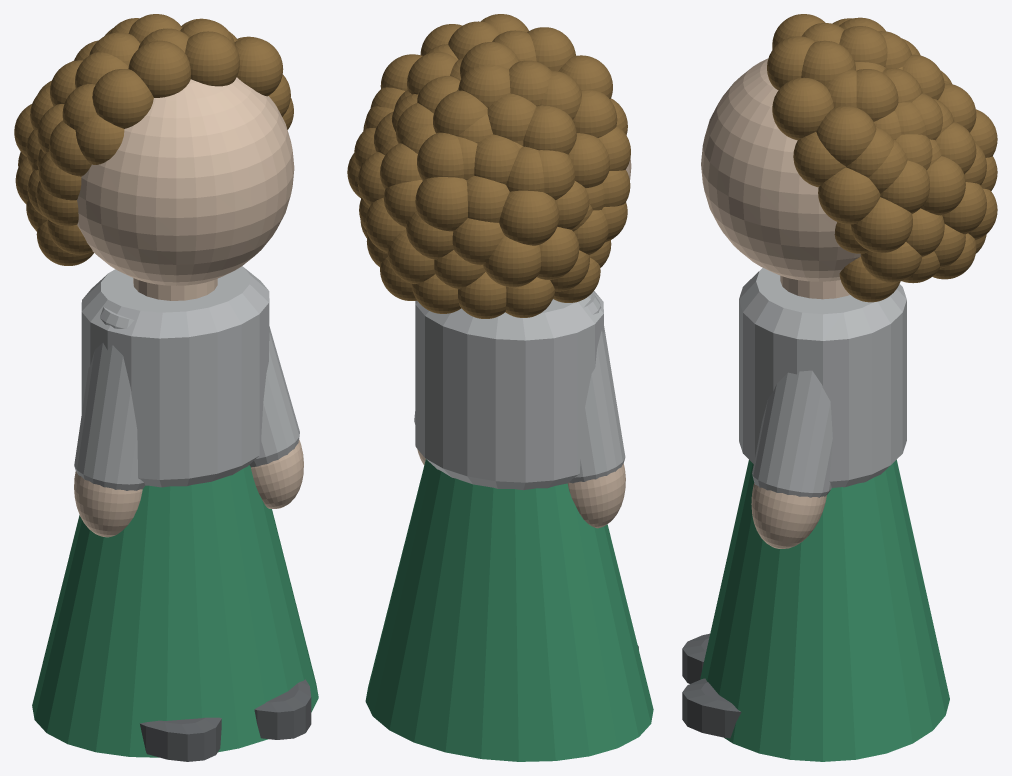
File: worker.glb
3 renders of one model, left to right at view 1: azimuth 30°, elevation 25°; view 2: azimuth 150°, elevation 25°; view 3: azimuth 270°, elevation 25°, orthographic.
Parts seen in each view (by area): view 1: Mesh_Mesh_head_geo.001_lambert2SG.001; view 2: Mesh_Mesh_head_geo.001_lambert2SG.001; view 3: Mesh_Mesh_head_geo.001_lambert2SG.001.
Boxes of the visible parts, <box> form: Mesh_Mesh_head_geo.001_lambert2SG.001: <box>14,14,318,761</box>; Mesh_Mesh_head_geo.001_lambert2SG.001: <box>347,14,653,761</box>; Mesh_Mesh_head_geo.001_lambert2SG.001: <box>682,14,997,761</box>.
Size of the model in its own units: 0.0141 by 0.035 by 0.0149.
